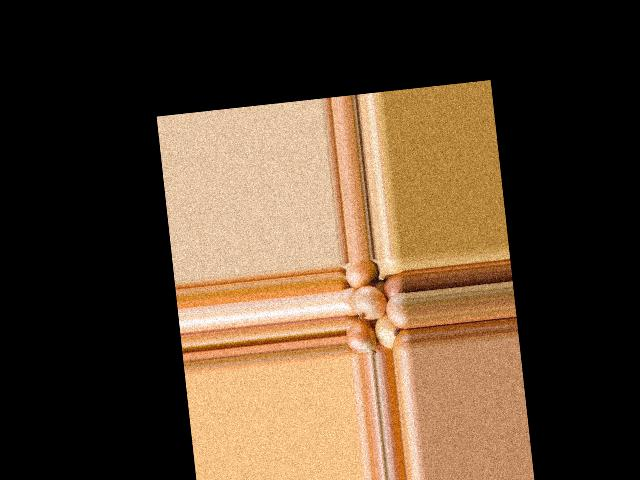onion: (341, 286, 360, 318)
